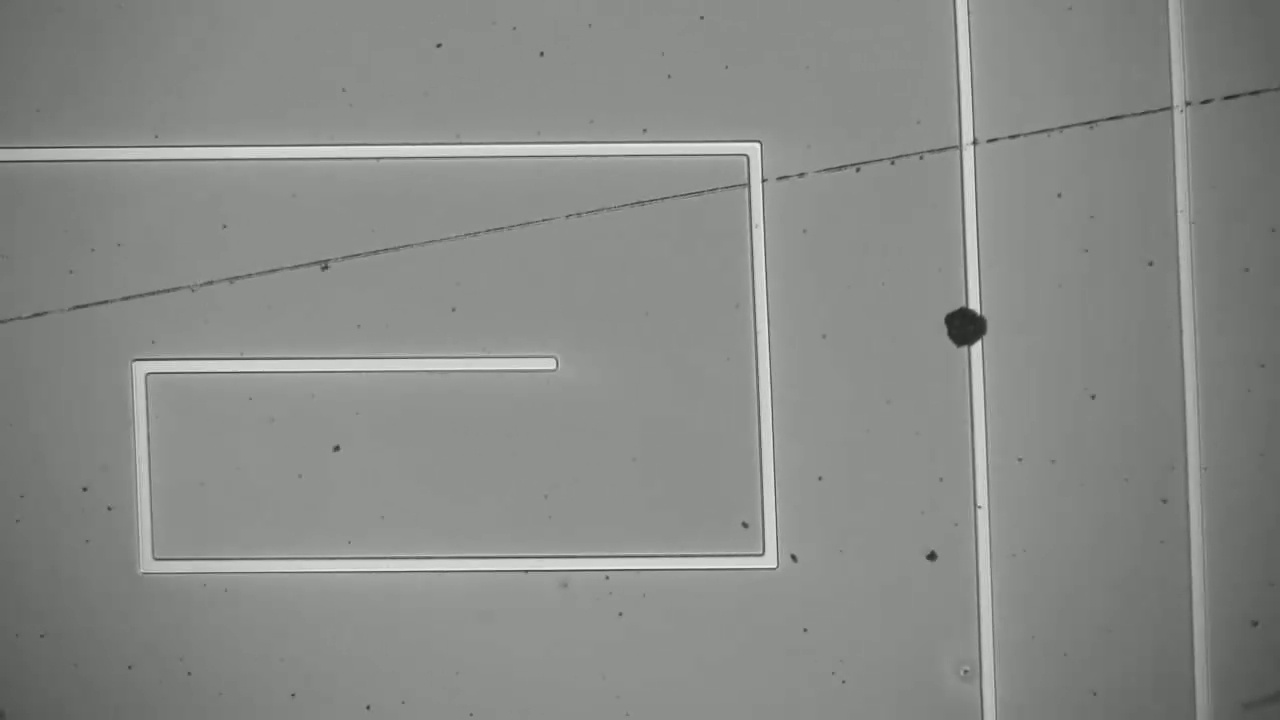scratch: (0, 89, 1276, 326)
stains_enbedded: (942, 299, 1002, 363)
